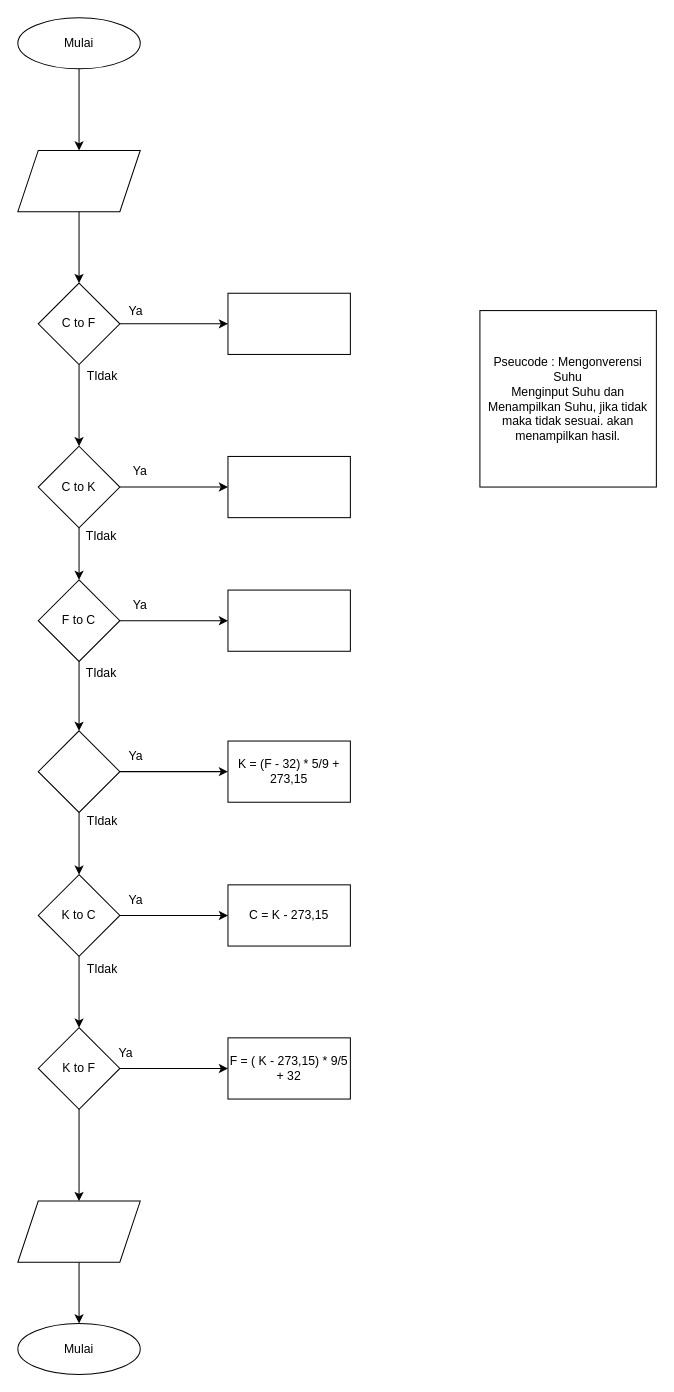
Image size: 674x1392. Some labels were removed from this diagram. Each missing label, with the centre of its shape:
"F = (C* 9/5) + 32" belongs at [288,620].
"F = (C*1.8) + 32" belongs at [288,323].
"F to K" belongs at [78,771].
"Input Suhu" belongs at [78,180].
"K = C + 273,15" belongs at [288,486].
"Print Hasil" belongs at [78,1231].
